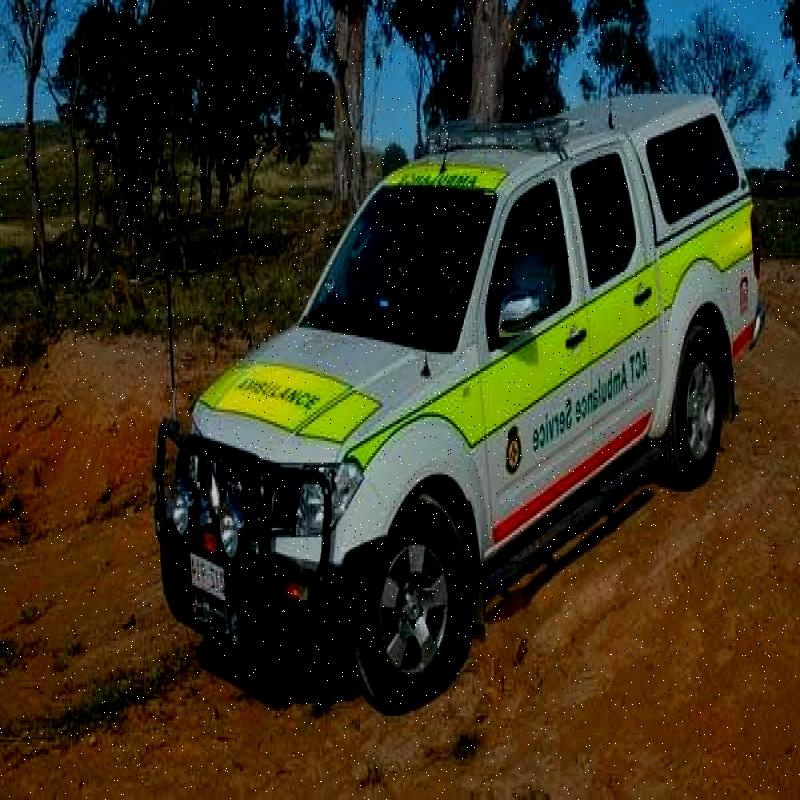AmbulanceSiren: (421, 109, 566, 153)
